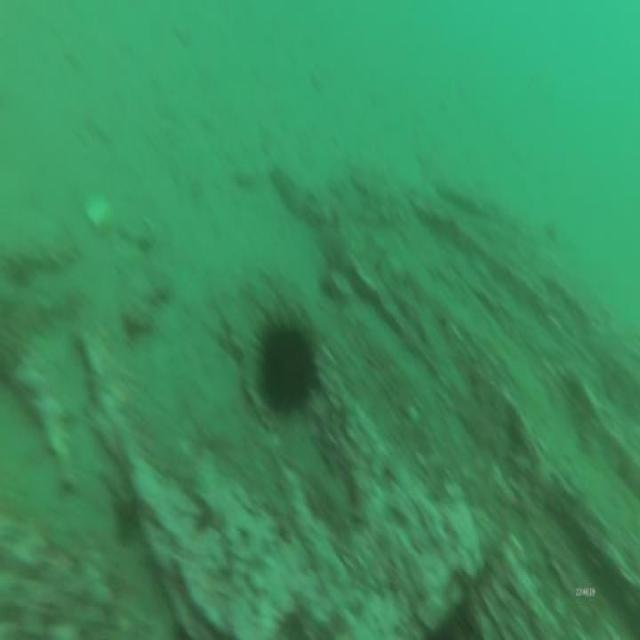echinus: (250, 308, 322, 420)
